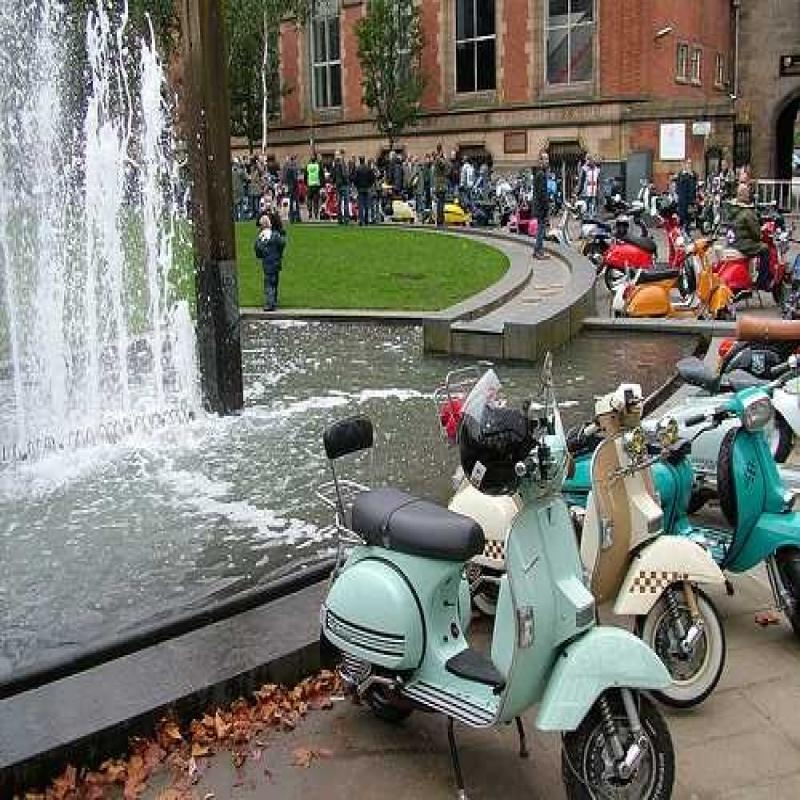bike: (303, 356, 681, 800), (565, 366, 728, 703), (684, 368, 800, 595)
